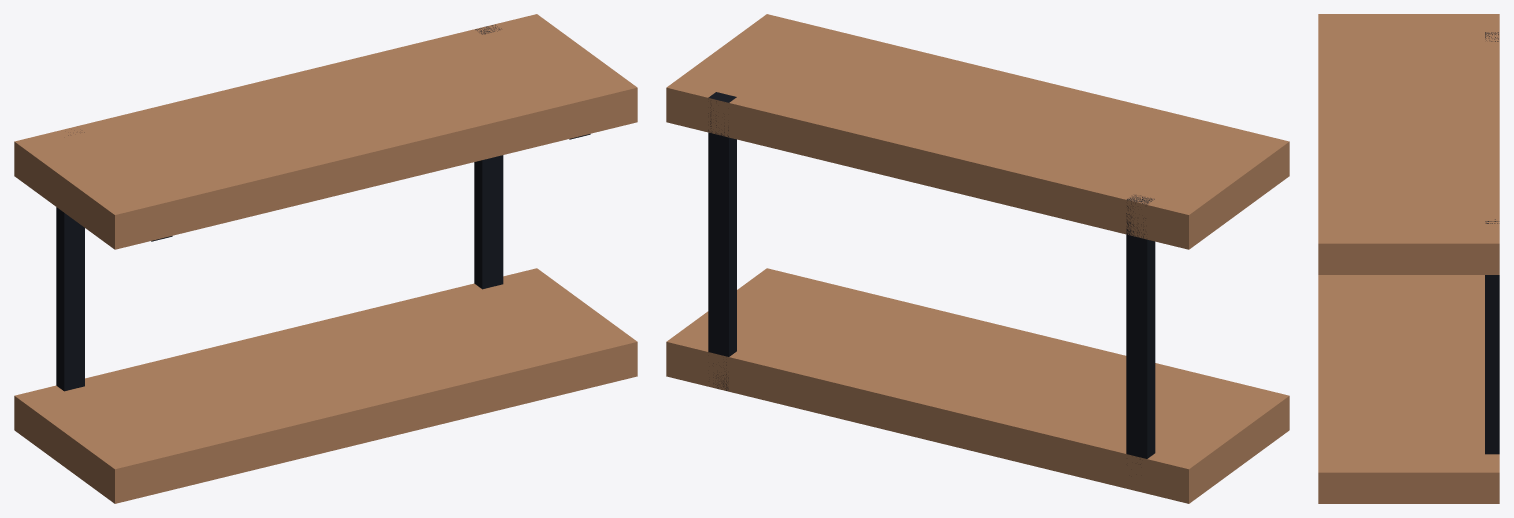
File: wall-shelf-double.glb
3 views of the same model, side by side, from view 1: azimuth 30°, elevation 25°; view 2: azimuth 150°, elevation 25°; view 3: azimuth 270°, elevation 25° (orthographic). The views are drawn at different scales.
Parts seen in each view (by area): view 1: wall-shelf-double; view 2: wall-shelf-double; view 3: wall-shelf-double.
Part boxes in pixels (left/top/right/bottom): wall-shelf-double: left=14, top=14, right=637, bottom=503; wall-shelf-double: left=666, top=14, right=1289, bottom=503; wall-shelf-double: left=1318, top=14, right=1499, bottom=503.
Bounding box in the file's own units: 60 × 32 × 20.
